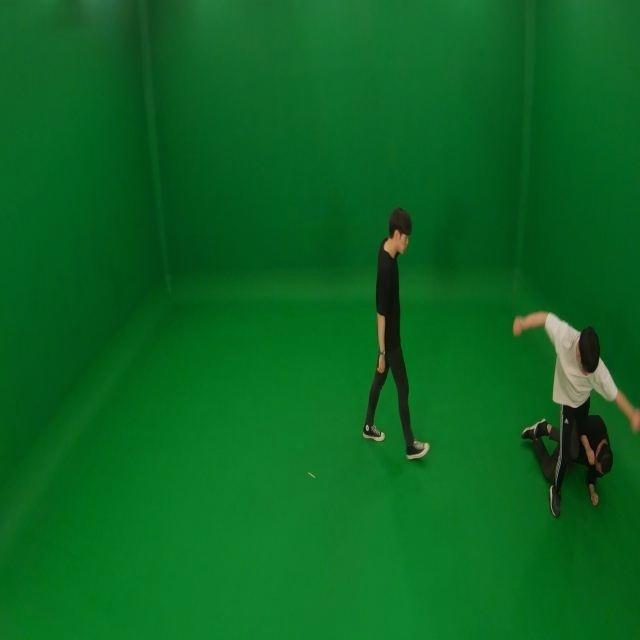fight: (508, 300, 636, 518)
non-fight: (362, 205, 430, 465)
